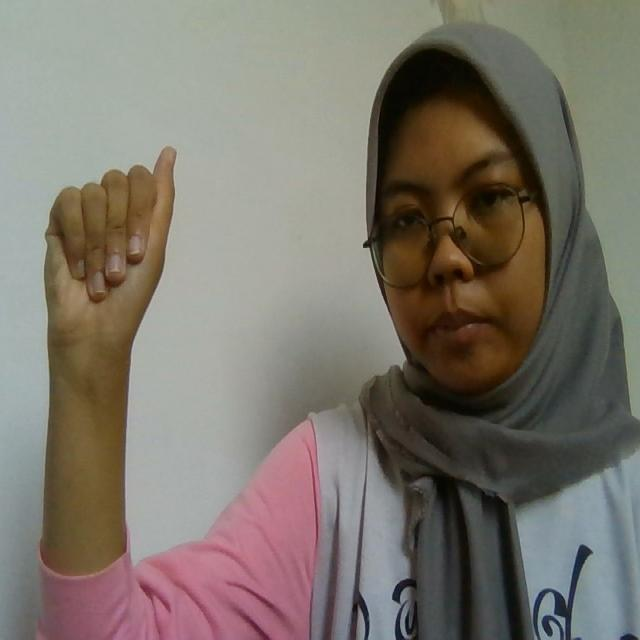A: (43, 145, 178, 336)
